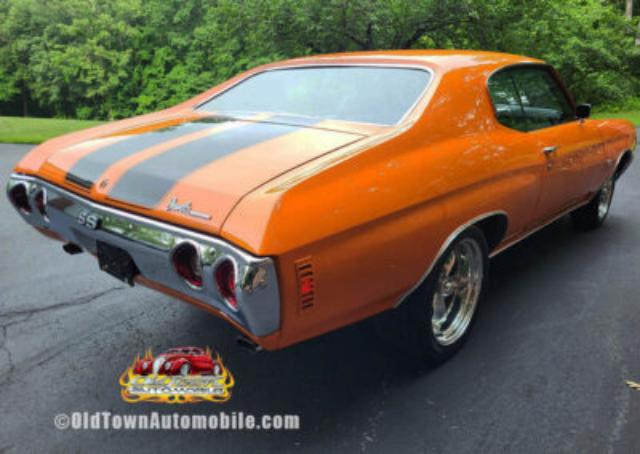chevelle-1972: (6, 50, 638, 363)
